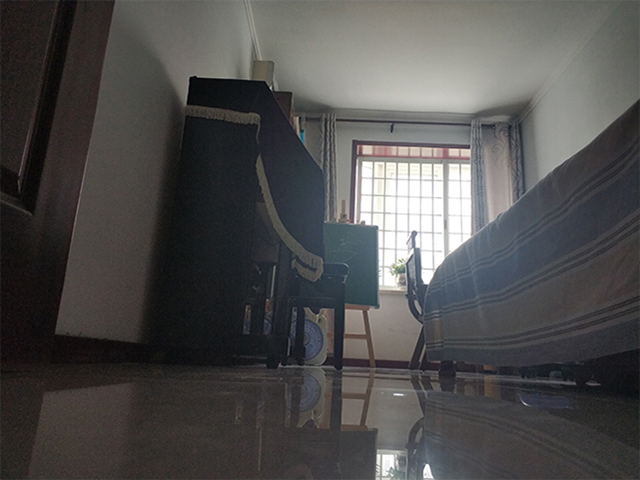bed: (422, 99, 640, 378)
stool: (287, 259, 351, 371)
